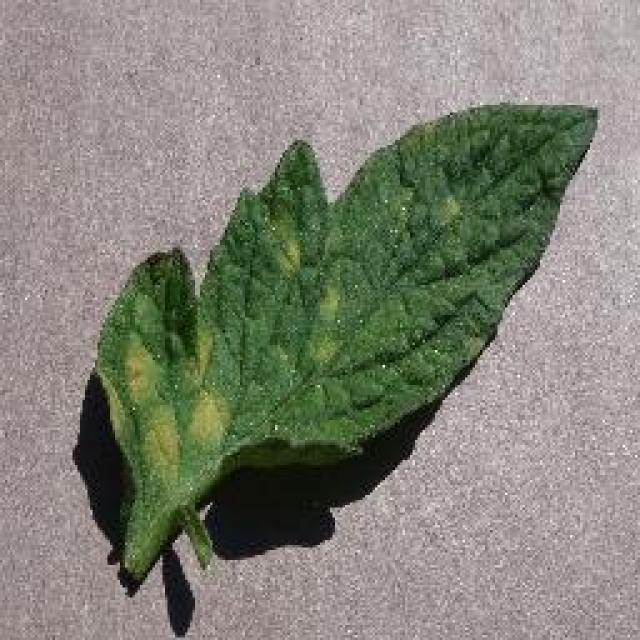Tomato___Leaf_Mold: (95, 105, 595, 580)
